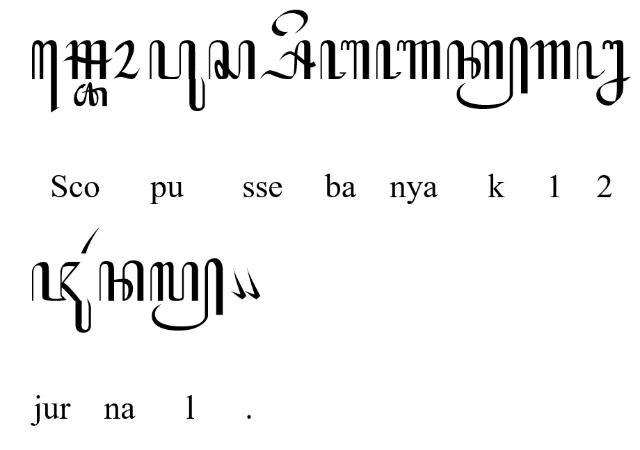-k: (446, 36, 530, 110)
-l: (150, 258, 224, 332)
S: (63, 39, 113, 80)
_c: (74, 81, 108, 109)
_r1: (81, 226, 101, 254)
_s: (262, 39, 316, 81)
b: (320, 40, 370, 80)
e: (272, 9, 308, 37)
e1: (32, 39, 60, 113)
g: (530, 40, 572, 80)
ju: (30, 261, 91, 333)
kom: (243, 267, 260, 301), (230, 268, 247, 300)
n: (98, 260, 144, 302)
ngna: (576, 39, 630, 107)
ny1: (375, 39, 441, 81)
o: (114, 40, 140, 80)
pu: (148, 40, 206, 112)
s: (208, 40, 256, 80)
